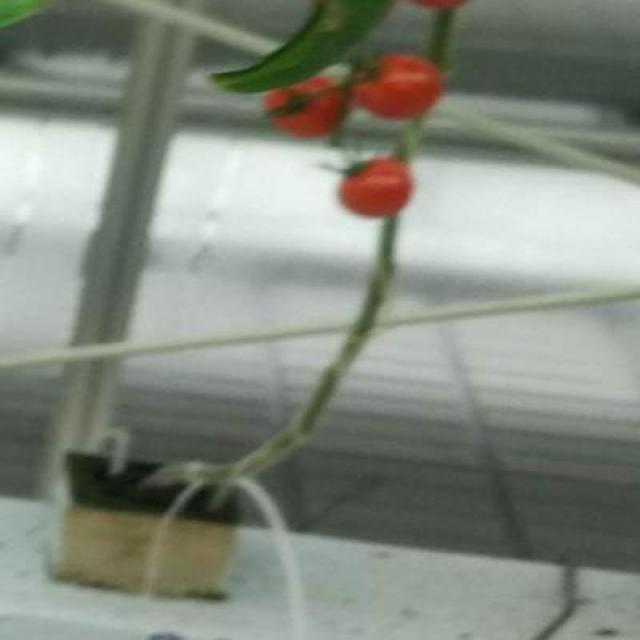tomato: (352, 54, 449, 121), (264, 77, 338, 143), (337, 157, 416, 215)
